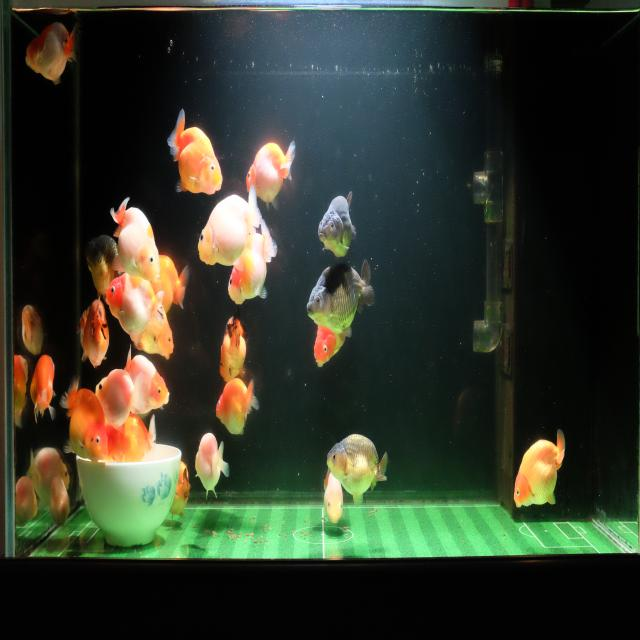Tilapia: (305, 257, 376, 340), (195, 184, 262, 268), (325, 429, 390, 509), (166, 105, 223, 196), (57, 370, 108, 466), (108, 192, 161, 284), (512, 424, 567, 512), (102, 269, 165, 345), (23, 18, 83, 93), (228, 217, 278, 306), (244, 138, 296, 212), (121, 342, 170, 417), (92, 364, 146, 432), (79, 229, 129, 297), (26, 438, 72, 505), (316, 188, 358, 260), (107, 411, 155, 472), (213, 376, 260, 438), (193, 431, 230, 504), (218, 308, 252, 387), (151, 248, 188, 318), (138, 293, 174, 364), (81, 296, 110, 373), (28, 349, 55, 424), (312, 318, 348, 371), (19, 300, 46, 360), (171, 456, 193, 524), (322, 463, 344, 528), (14, 474, 38, 533), (13, 349, 30, 431), (46, 473, 70, 530)
